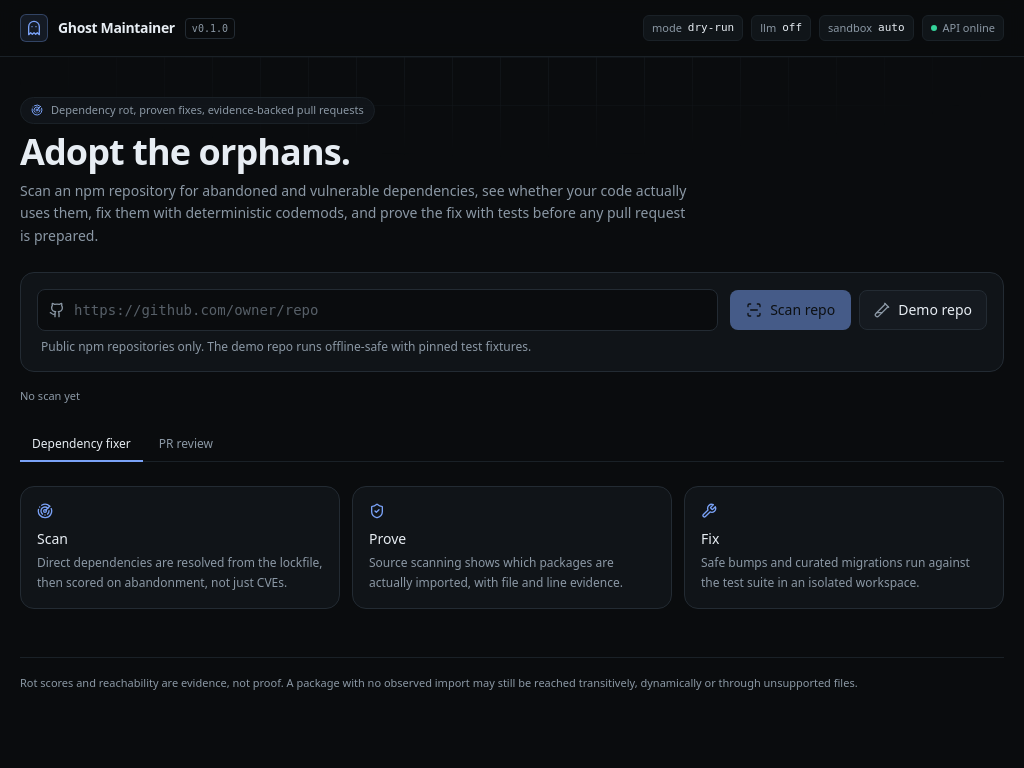
scan results › shows a scan failure as an error state with a retry
Click the button "Demo repo".
click(923, 310)  # box x1=859 y1=290 x2=987 y2=330
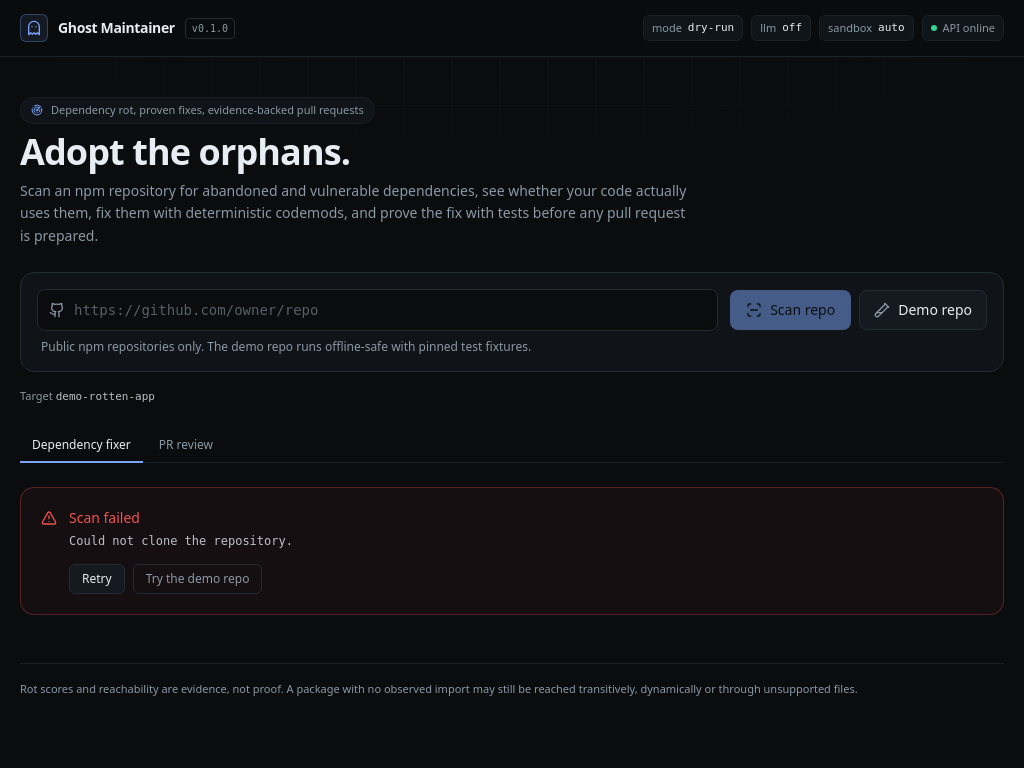
Expected: the text "Scan failed" is shown, x1=69 y1=508 x2=140 y2=527
Expected: the text "Could not clone the repository." is shown, x1=69 y1=532 x2=293 y2=552
Expected: the button "Retry" is shown, x1=69 y1=564 x2=125 y2=594
